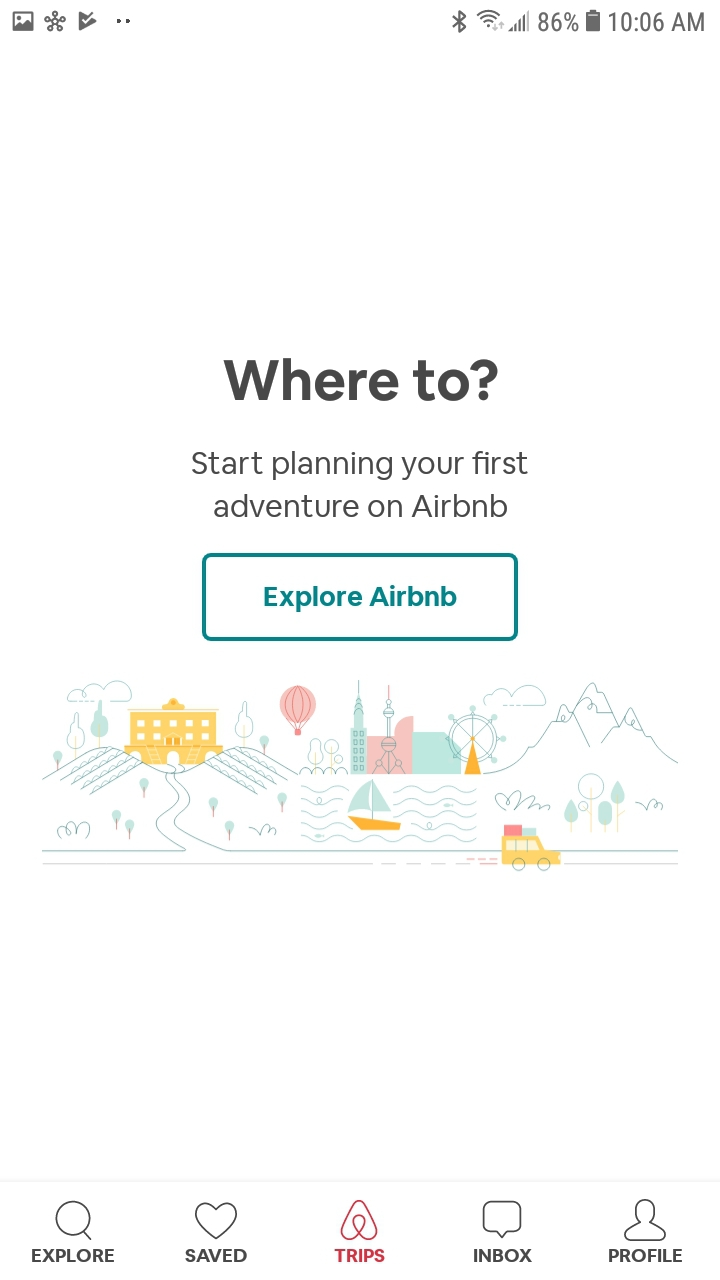Icon: (624, 1199, 667, 1242), (195, 1201, 238, 1240), (482, 1200, 522, 1239), (55, 1200, 93, 1241)
Image: (42, 680, 679, 873), (340, 1199, 379, 1241)
Text: (192, 451, 529, 519), (223, 358, 499, 403), (32, 1248, 115, 1263), (609, 1248, 683, 1263), (185, 1248, 248, 1263), (474, 1248, 533, 1263), (335, 1248, 386, 1263)
TextButton: (202, 552, 519, 642)
UpperTaskBar: (1, 1, 720, 35)
